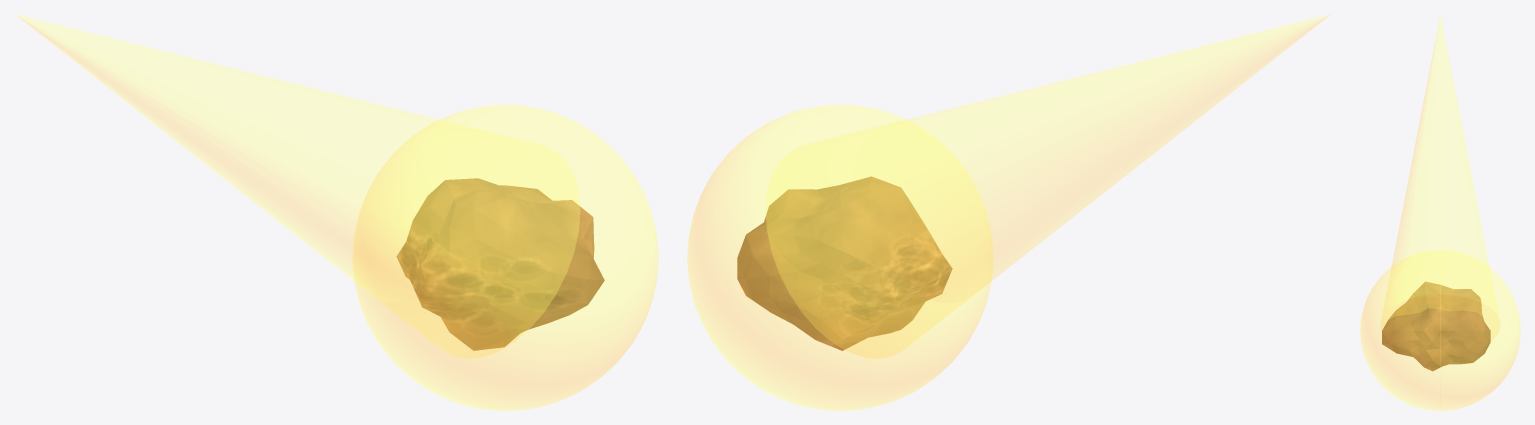
Rendered from meteor.glb.
3 renders of one model, left to right at view 1: azimuth 30°, elevation 25°; view 2: azimuth 150°, elevation 25°; view 3: azimuth 270°, elevation 25°, orthographic. The views are drawn at different scales.
Visible parts, largest first — view 1: Jejak, Nyala, Batu; view 2: Jejak, Nyala, Batu; view 3: Nyala, Jejak, Batu.
Part boxes in pixels (<box>): Jejak: <box>15,14,579,358</box>; Nyala: <box>352,105,658,410</box>; Batu: <box>396,178,604,350</box>; Jejak: <box>766,14,1330,358</box>; Nyala: <box>687,105,993,410</box>; Batu: <box>737,176,952,350</box>; Nyala: <box>1360,250,1520,410</box>; Jejak: <box>1381,14,1499,339</box>; Batu: <box>1382,281,1490,371</box>.
Bounding box in the file's own units: 0.5268 × 0.4054 × 0.224.
Materials: 3 (1 with a texture image).
